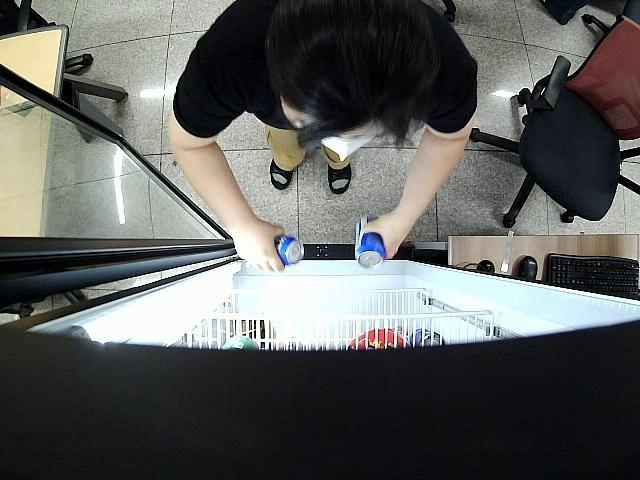13_pocariSweat: (356, 214, 384, 270), (276, 234, 305, 264)
